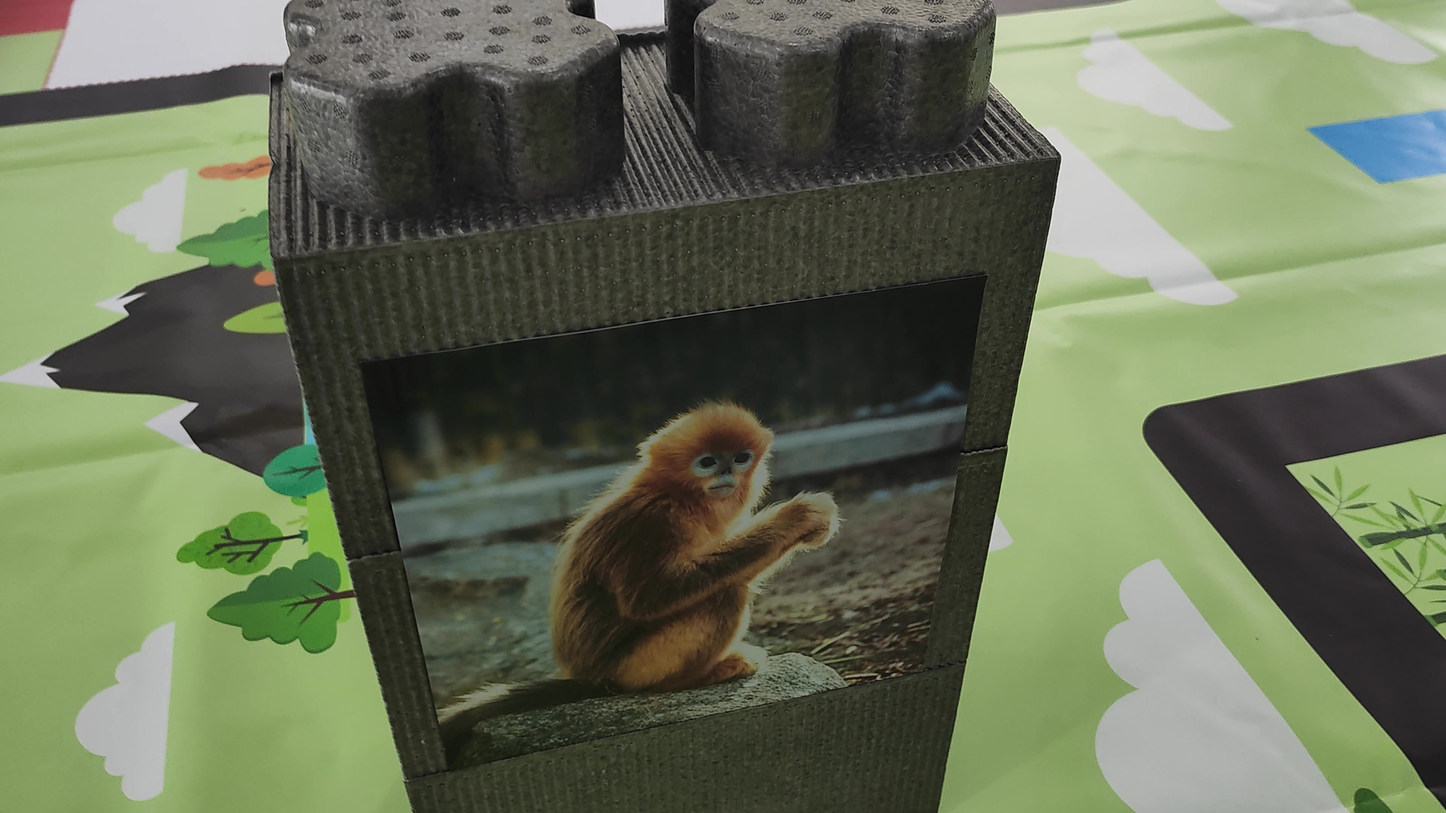monkey: (420, 372, 877, 758)
